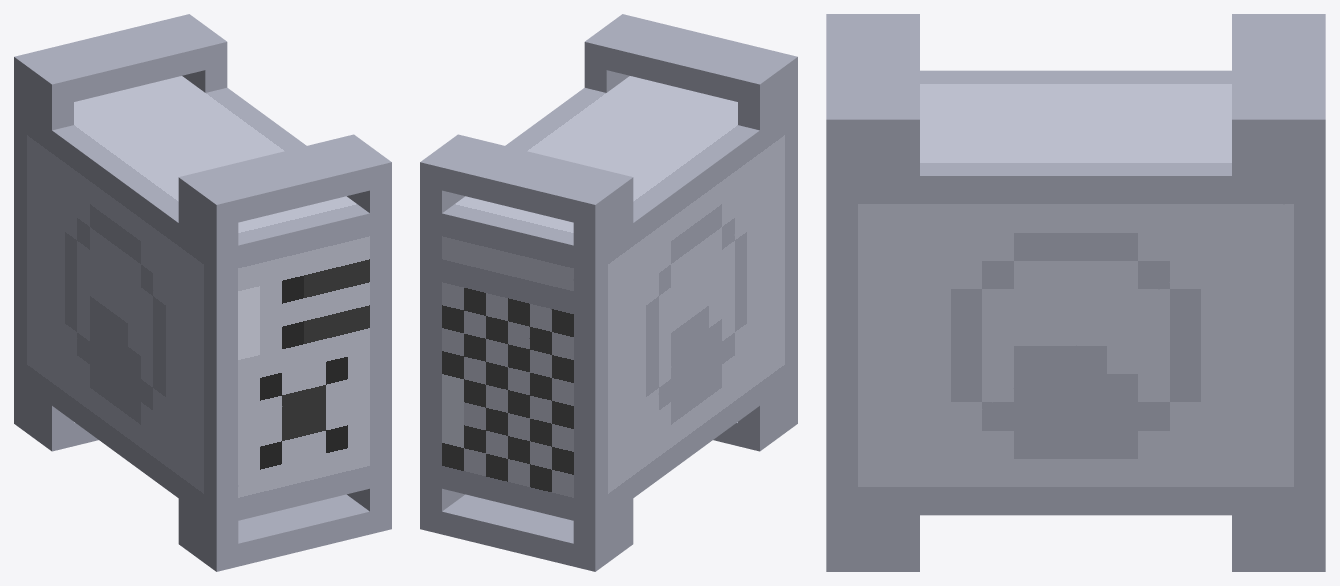
File: powermark.obj
The picture shows the model from 3 angles, left to right: view 1: azimuth 30°, elevation 25°; view 2: azimuth 150°, elevation 25°; view 3: azimuth 270°, elevation 25°; orthographic projection. The views are drawn at different scales.
Visible parts, largest first — view 1: cube; view 2: cube; view 3: cube.
Part boxes in pixels (x1,y1,x2,y2): cube: [14, 14, 391, 571]; cube: [420, 14, 797, 571]; cube: [826, 14, 1325, 571].
Size of the model in its own units: 0.5 by 1 by 1.
